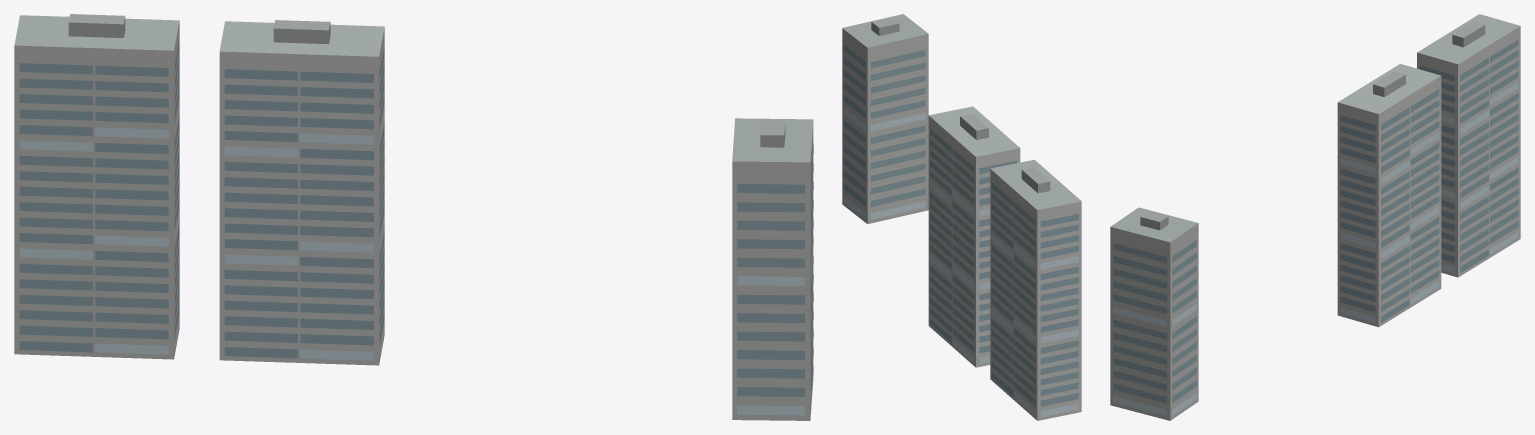
File: apt-a15783902.glb
The picture shows the model from 3 angles, left to right: view 1: azimuth 30°, elevation 25°; view 2: azimuth 150°, elevation 25°; view 3: azimuth 270°, elevation 25°; orthographic projection. The views are drawn at different scales.
Parts seen in each view (by area): view 1: apt-a15783902; view 2: apt-a15783902; view 3: apt-a15783902.
Part boxes in pixels (<box>): apt-a15783902: <box>14,14,813,420</box>; apt-a15783902: <box>842,14,1081,420</box>; apt-a15783902: <box>1110,14,1520,420</box>.
Bounding box in the file's own units: 104 × 56 × 93.46.
